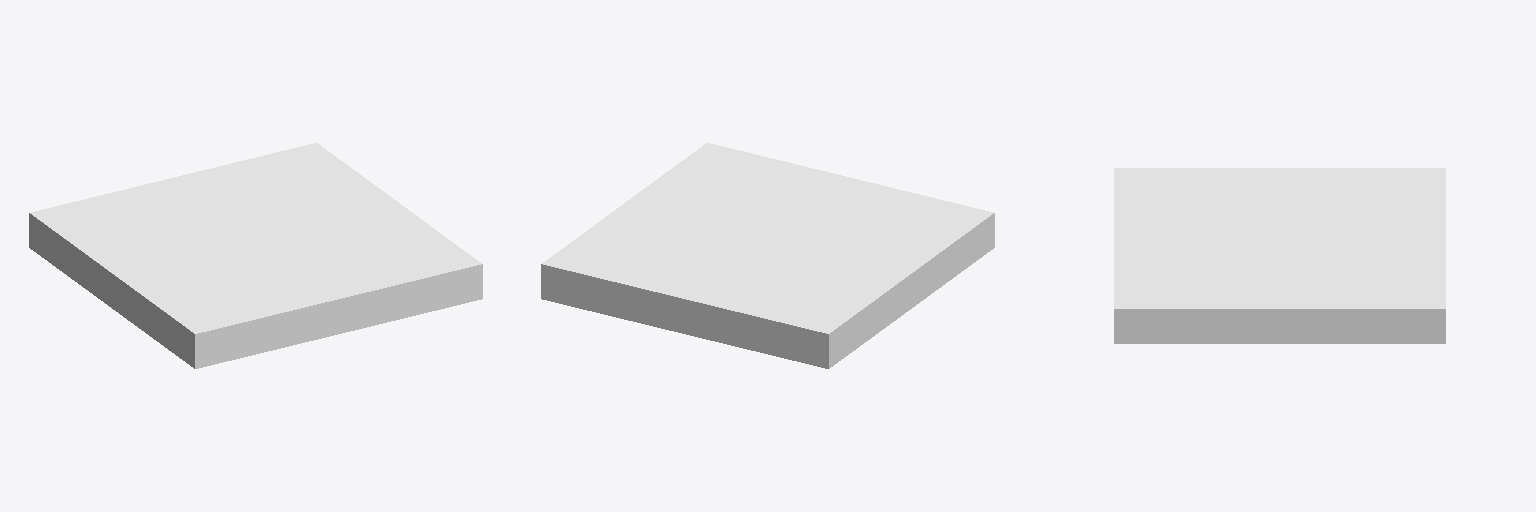
Rendered from tresh(Layar One 3).obj.
3 views of the same model, side by side, from view 1: azimuth 30°, elevation 25°; view 2: azimuth 150°, elevation 25°; view 3: azimuth 270°, elevation 25° (orthographic).
Parts seen in each view (by area): view 1: tresh(Layar One 3); view 2: tresh(Layar One 3); view 3: tresh(Layar One 3).
Boxes of the visible parts, x1,y1,x2,y2 form: tresh(Layar One 3): [29, 143, 482, 368]; tresh(Layar One 3): [541, 143, 994, 368]; tresh(Layar One 3): [1114, 168, 1445, 343].
Bounding box in the file's own units: 3 × 0.35 × 3.